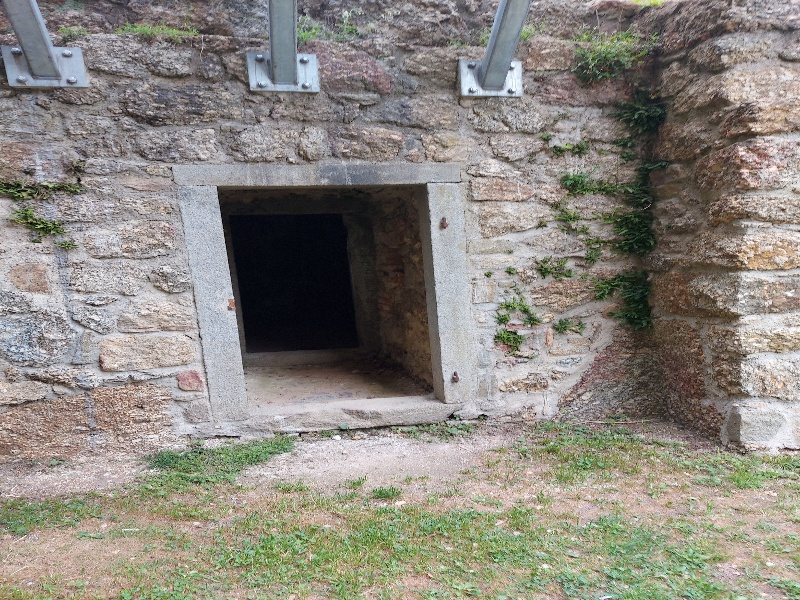door1: (159, 152, 503, 446)
